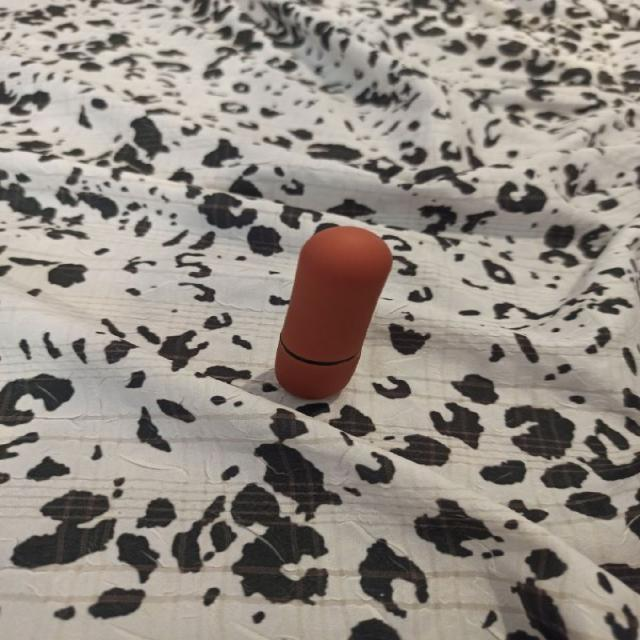lipstick: (273, 225, 393, 399)
